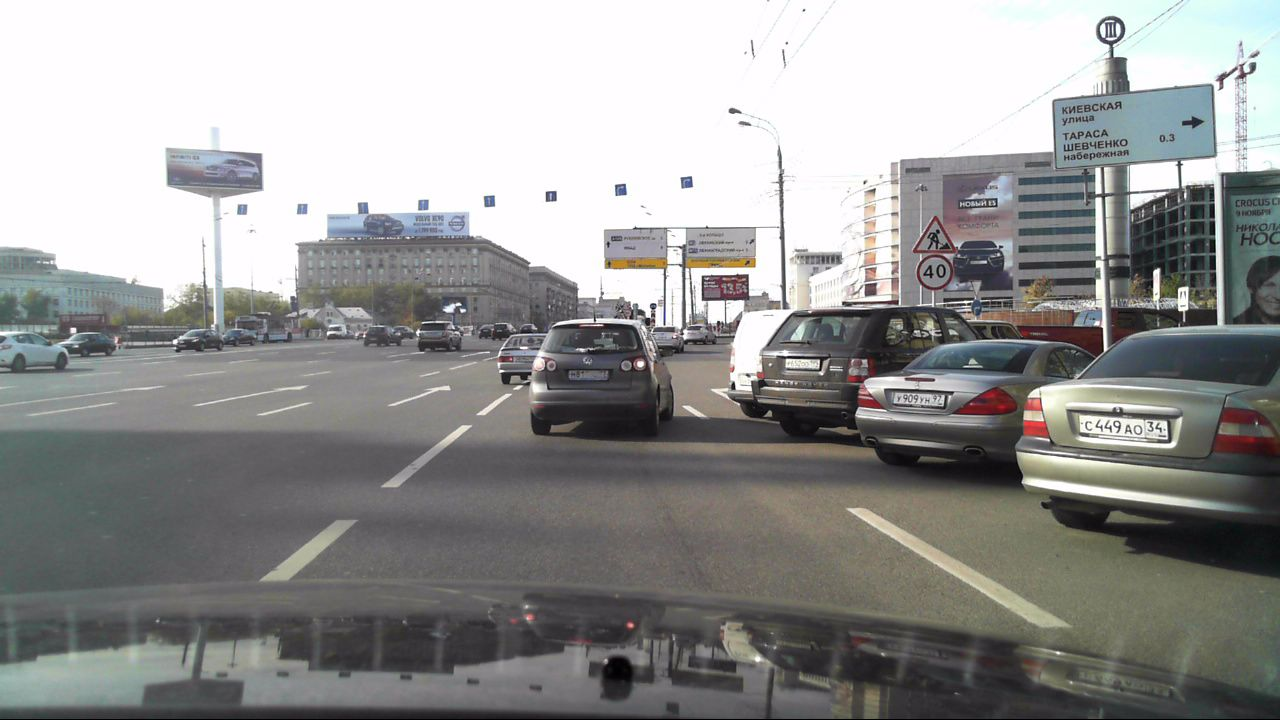speed_warning_40: (916, 255, 954, 291)
